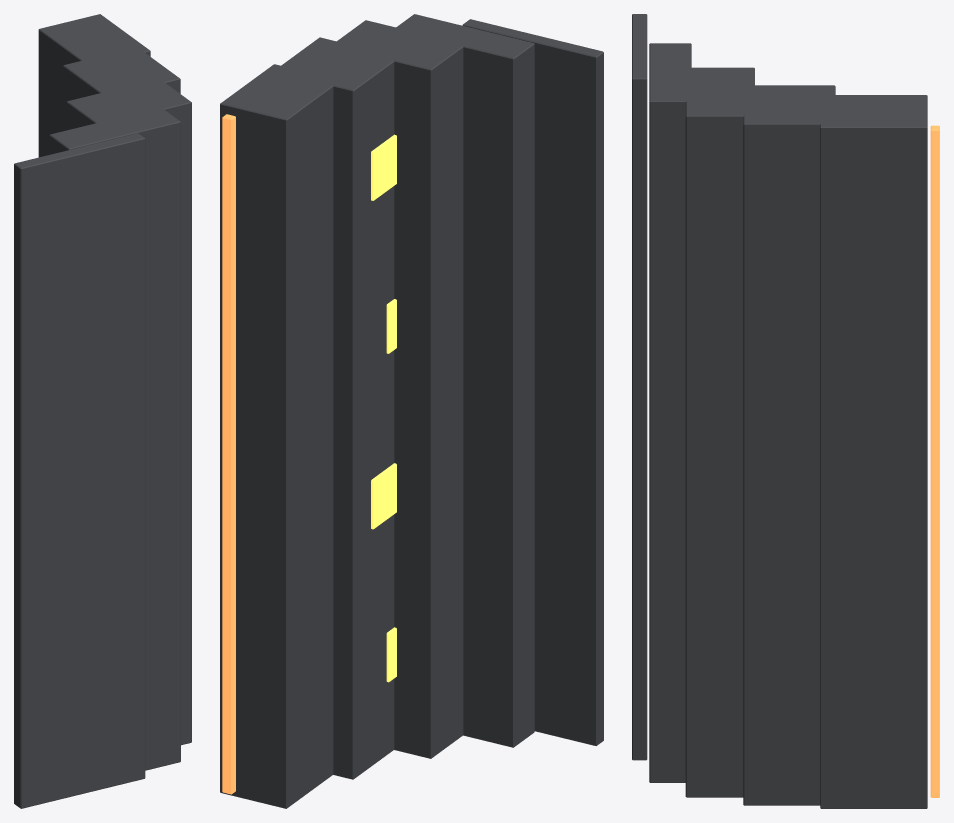
Rendered from bank_halfpipe.glb.
The picture shows the model from 3 angles, left to right: view 1: azimuth 30°, elevation 25°; view 2: azimuth 150°, elevation 25°; view 3: azimuth 270°, elevation 25°; orthographic projection. The views are drawn at different scales.
Visible parts, largest first — view 1: FlightKit_BankHalfpipe; view 2: FlightKit_BankHalfpipe; view 3: FlightKit_BankHalfpipe.
Boxes of the visible parts, x1,y1,x2,y2 form: FlightKit_BankHalfpipe: (14, 14, 191, 808); FlightKit_BankHalfpipe: (220, 14, 603, 808); FlightKit_BankHalfpipe: (632, 14, 939, 808).
Bounding box in the file's own units: 3.5 × 9.8 × 4.01.
